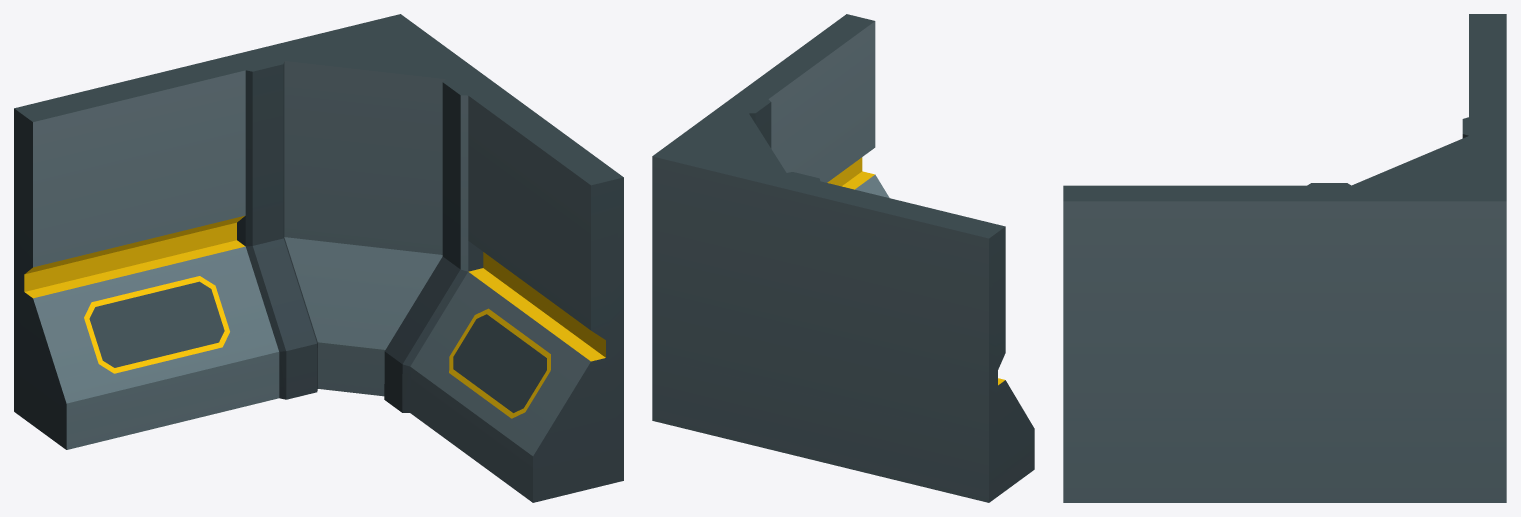
Rendered from Wall_type_C_027.fbx.
The picture shows the model from 3 angles, left to right: view 1: azimuth 30°, elevation 25°; view 2: azimuth 150°, elevation 25°; view 3: azimuth 270°, elevation 25°; orthographic projection. The views are drawn at different scales.
Visible parts, largest first — view 1: Wall_type_C_027; view 2: Wall_type_C_027; view 3: Wall_type_C_027.
Part boxes in pixels (x1=…): Wall_type_C_027: x1=14, y1=14, x2=623, y2=502; Wall_type_C_027: x1=652, y1=14, x2=1034, y2=502; Wall_type_C_027: x1=1063, y1=14, x2=1506, y2=502.
Bounding box in the file's own units: 200 × 200 × 150.
